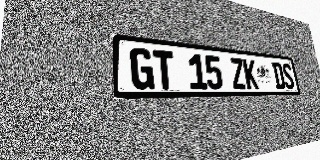1: (187, 53, 208, 89)
5: (204, 55, 224, 89)
D: (271, 62, 286, 89)
G: (129, 47, 154, 89)
K: (242, 59, 259, 89)
S: (281, 63, 295, 89)
T: (153, 50, 176, 89)
Z: (229, 57, 247, 89)
